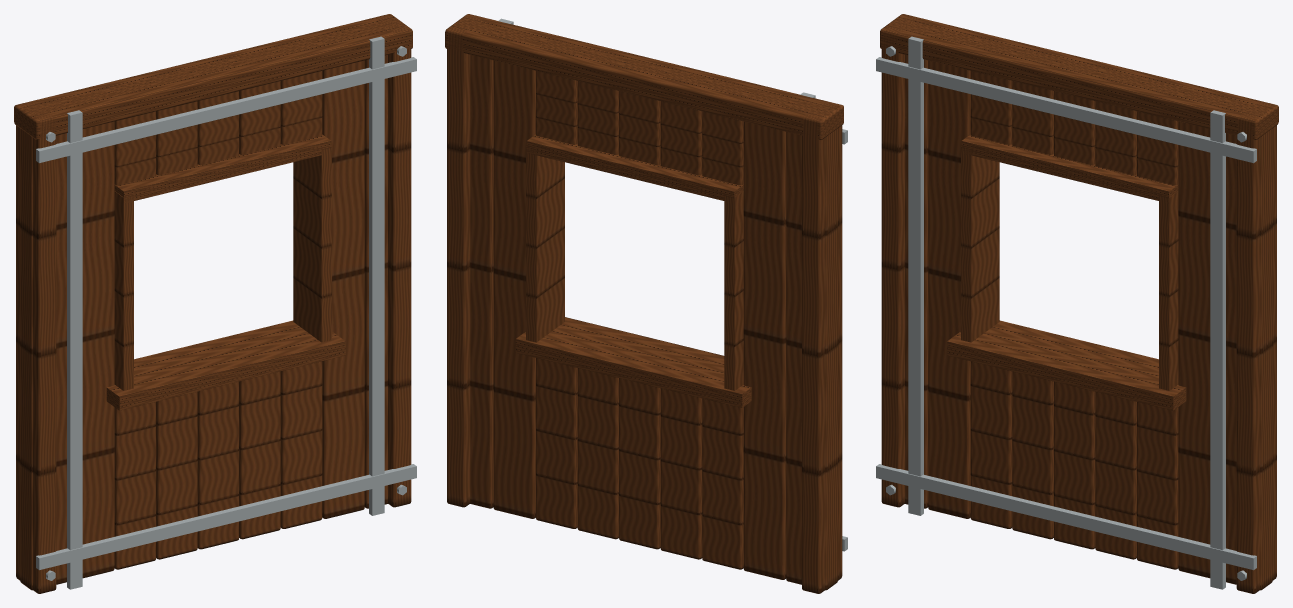
File: modular-survival-base-builder-wall-window-opening-rein-80d49421__24288.glb
3 views of the same model, side by side, from view 1: azimuth 30°, elevation 25°; view 2: azimuth 150°, elevation 25°; view 3: azimuth 330°, elevation 25° (orthographic).
Visible parts, largest first — view 1: wall-window-opening-reinforced; view 2: wall-window-opening-reinforced; view 3: wall-window-opening-reinforced.
Part boxes in pixels (x1,y1,x2,y2): wall-window-opening-reinforced: [14, 14, 416, 593]; wall-window-opening-reinforced: [445, 14, 847, 593]; wall-window-opening-reinforced: [876, 14, 1278, 593].
Size of the model in its own units: 2 by 2.4 by 0.3199.
2 materials, 1 textured.
